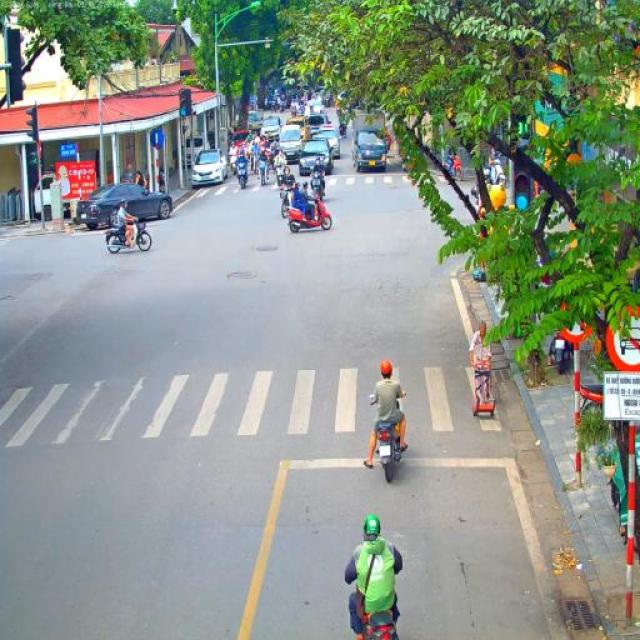car: (76, 182, 173, 229), (192, 148, 228, 188), (298, 138, 333, 176), (278, 125, 303, 164), (284, 117, 310, 144), (318, 130, 340, 160), (258, 116, 282, 142), (306, 113, 329, 138), (229, 130, 250, 150), (304, 100, 324, 116)
motorcycle: (369, 392, 406, 482), (104, 216, 152, 254), (286, 194, 332, 233), (360, 607, 400, 640), (552, 330, 570, 376), (572, 383, 602, 408), (441, 150, 464, 181), (483, 156, 506, 185), (280, 184, 296, 218), (235, 160, 249, 190), (310, 178, 326, 202), (257, 159, 269, 186), (226, 153, 239, 177), (275, 162, 286, 190), (247, 148, 257, 178), (266, 150, 278, 170), (339, 120, 347, 139), (271, 101, 279, 114), (292, 106, 298, 120), (298, 105, 304, 117), (280, 102, 286, 113)
truck: (351, 113, 389, 173), (247, 110, 262, 134)
